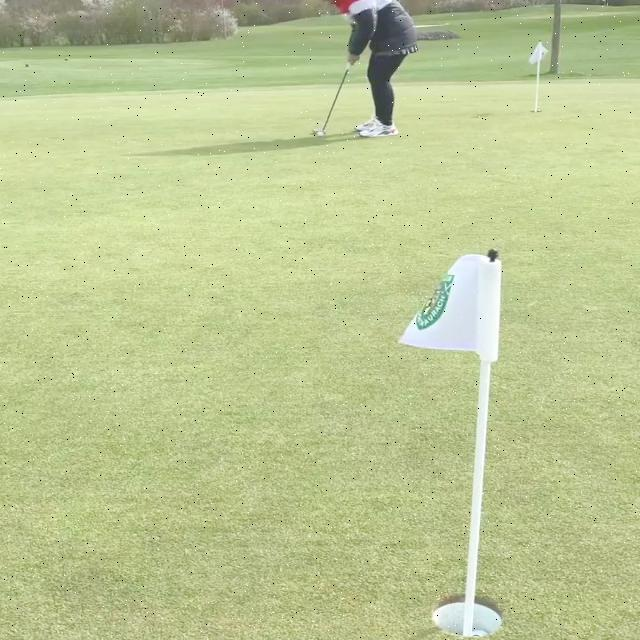golf ball: (316, 132, 324, 136)
golf club-handle: (311, 58, 354, 136)
golf club-head: (313, 130, 326, 135)
